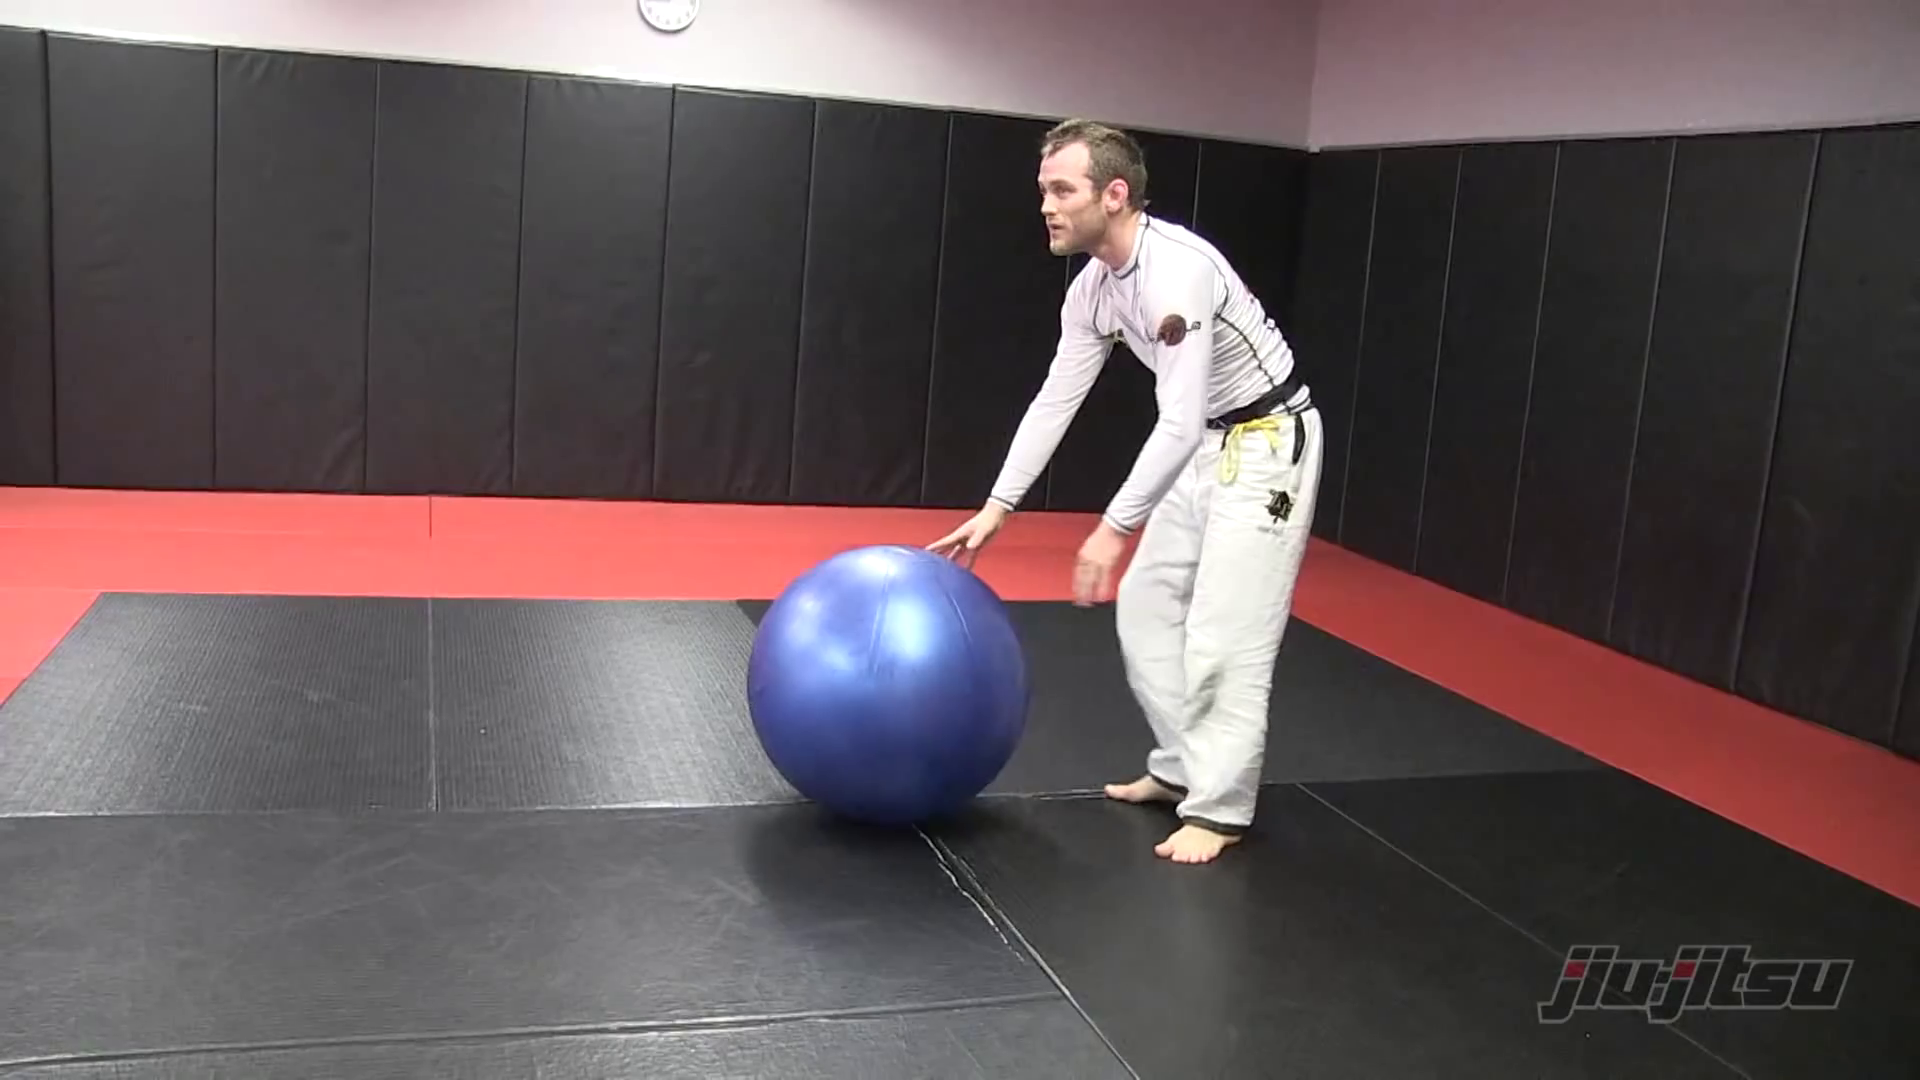yogaball: (735, 538, 1040, 841)
